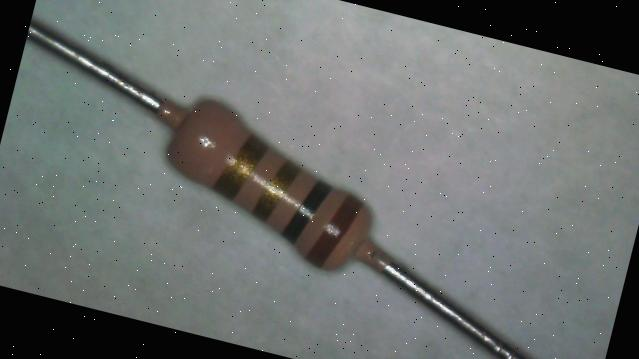black: (280, 174, 332, 248)
brown: (306, 186, 364, 272)
gold: (212, 130, 269, 204), (249, 155, 300, 225)
resistor: (125, 52, 421, 313)
